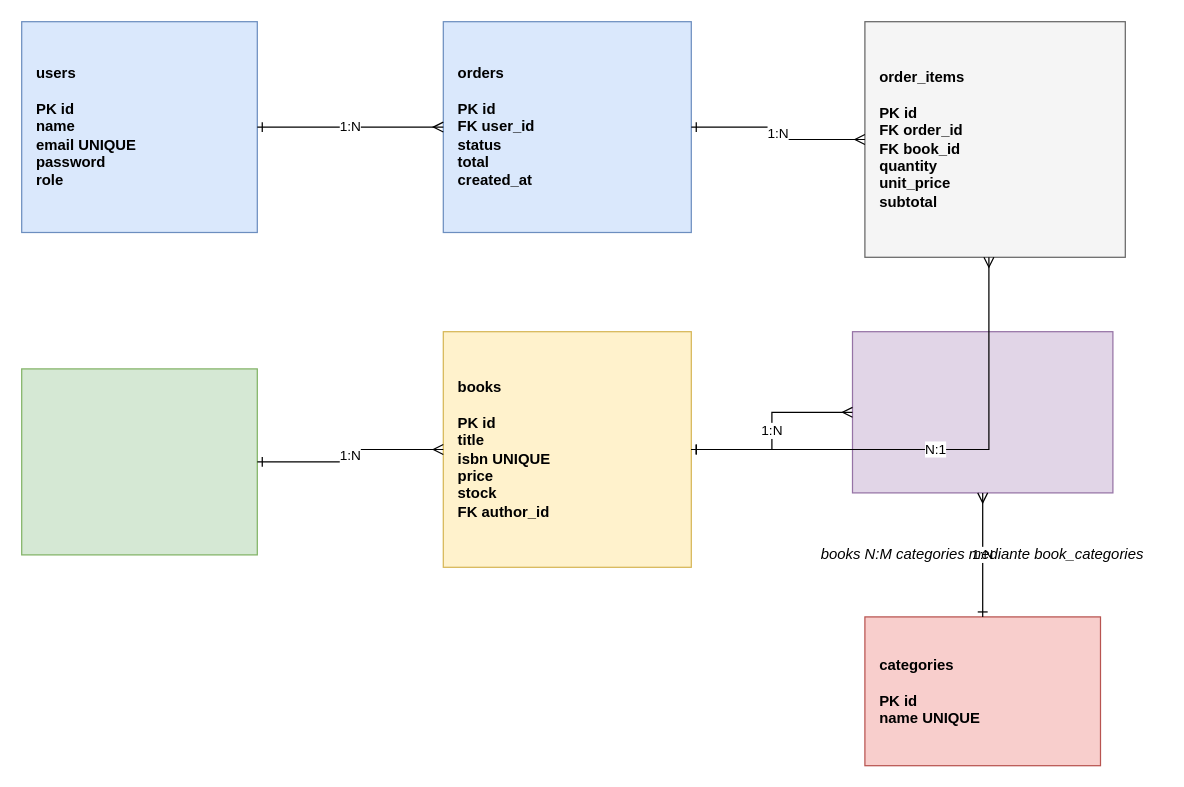
This 1184x787 diagram has some shape labels left out. The shapes that lost their labels are listed below. From the top down, each one's centre as x and y in pixels, then its label:
At [982,411]: "book_categories PK/FK book_id PK/FK category_id".
At [138,461]: "authors PK id name biography email".
